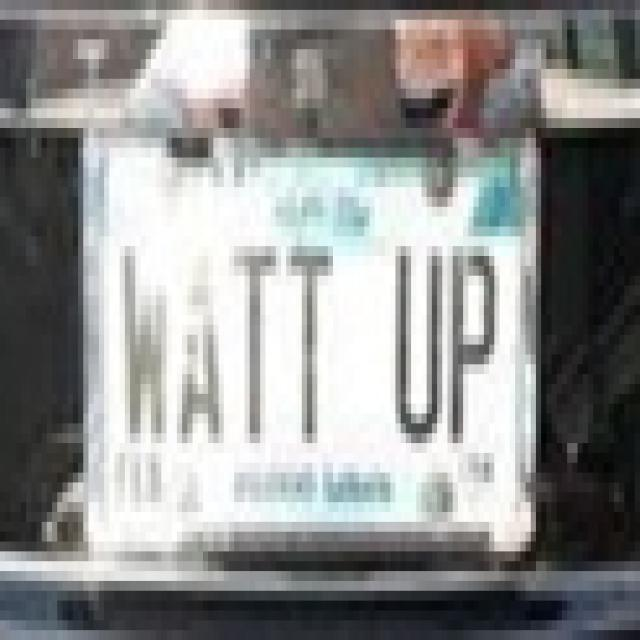A: (176, 225, 224, 466)
P: (448, 218, 506, 472)
T: (280, 229, 335, 462), (227, 229, 279, 456)
U: (390, 218, 447, 448)
W: (116, 224, 172, 454)
